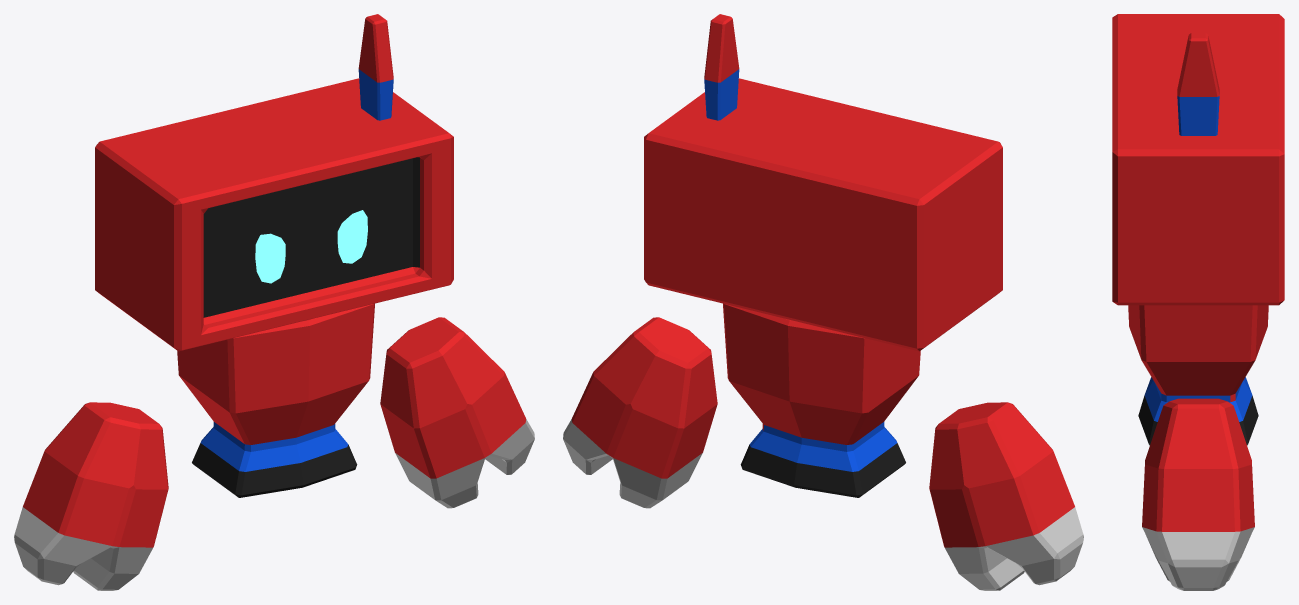
Rendered from Robot02.fbx.
3 renders of one model, left to right at view 1: azimuth 30°, elevation 25°; view 2: azimuth 150°, elevation 25°; view 3: azimuth 270°, elevation 25°, orthographic. The views are drawn at different scales.
Parts seen in each view (by area): view 1: Cube.008, Cube.010, Cube.009, Cube.011, Plane.002; view 2: Cube.008, Cube.010, Cube.009, Cube.011; view 3: Cube.008, Cube.010, Cube.009, Cube.011.
Part boxes in pixels (bbox=[...]): Cube.008: bbox=[95, 78, 453, 351]; Cube.010: bbox=[14, 317, 534, 590]; Cube.009: bbox=[177, 303, 374, 497]; Cube.011: bbox=[358, 14, 393, 120]; Plane.002: bbox=[255, 210, 367, 283]; Cube.008: bbox=[644, 78, 1002, 351]; Cube.010: bbox=[563, 317, 1083, 590]; Cube.009: bbox=[723, 303, 920, 497]; Cube.011: bbox=[704, 14, 739, 120]; Cube.008: bbox=[1112, 14, 1284, 305]; Cube.010: bbox=[1142, 398, 1254, 590]; Cube.009: bbox=[1128, 305, 1268, 445]; Cube.011: bbox=[1177, 33, 1219, 135].
Bounding box in the file's own units: 110 × 106 × 32.18.
